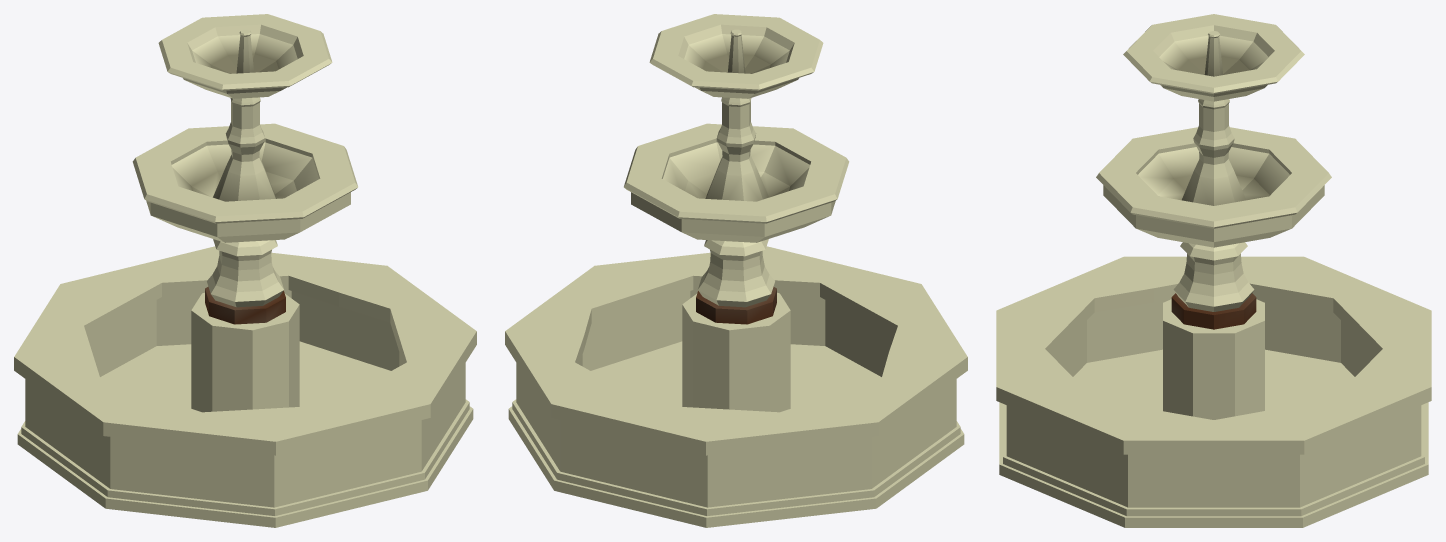
File: fountain.fbx
3 views of the same model, side by side, from view 1: azimuth 30°, elevation 25°; view 2: azimuth 150°, elevation 25°; view 3: azimuth 270°, elevation 25° (orthographic).
Visible parts, largest first — view 1: Fountain; view 2: Fountain; view 3: Fountain.
Boxes of the visible parts, x1,y1,x2,y2 form: Fountain: [14, 14, 476, 527]; Fountain: [505, 14, 967, 527]; Fountain: [996, 14, 1431, 527].
Size of the model in its own units: 567 by 581 by 567.
